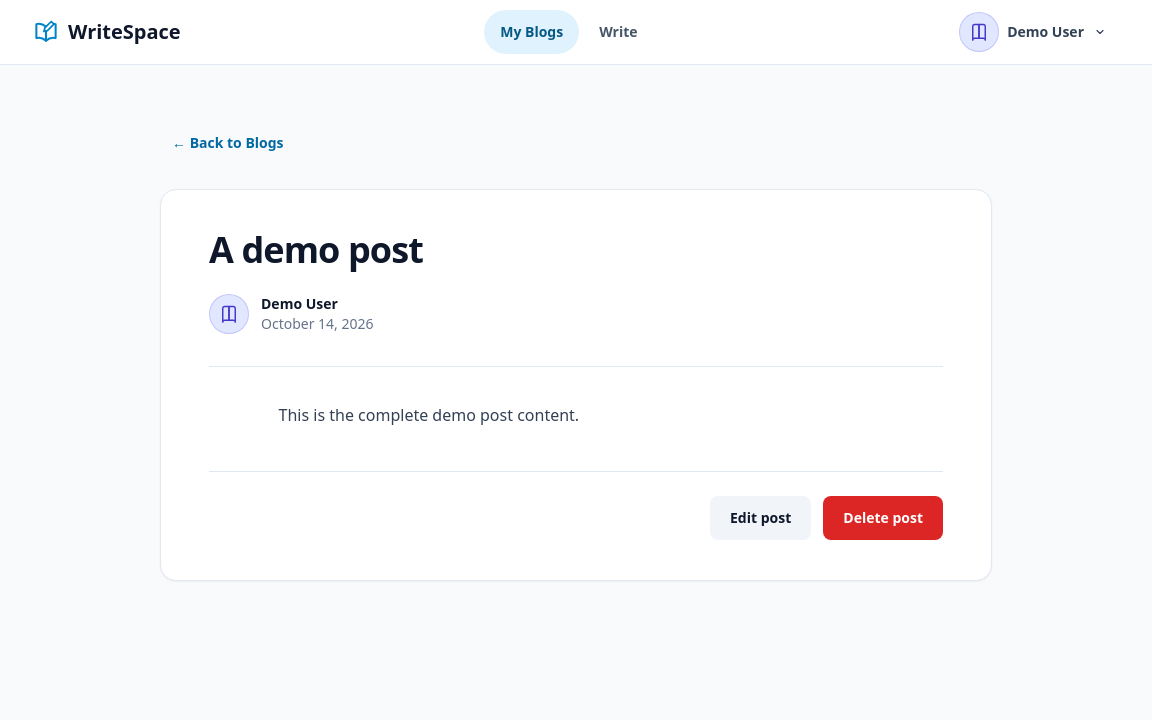
Scenario: post deletion flows › shows a visible error and keeps the reader open when deletion cannot be saved
Click the button with aria-label "Delete A demo post": (883,518) [823,496,943,540]
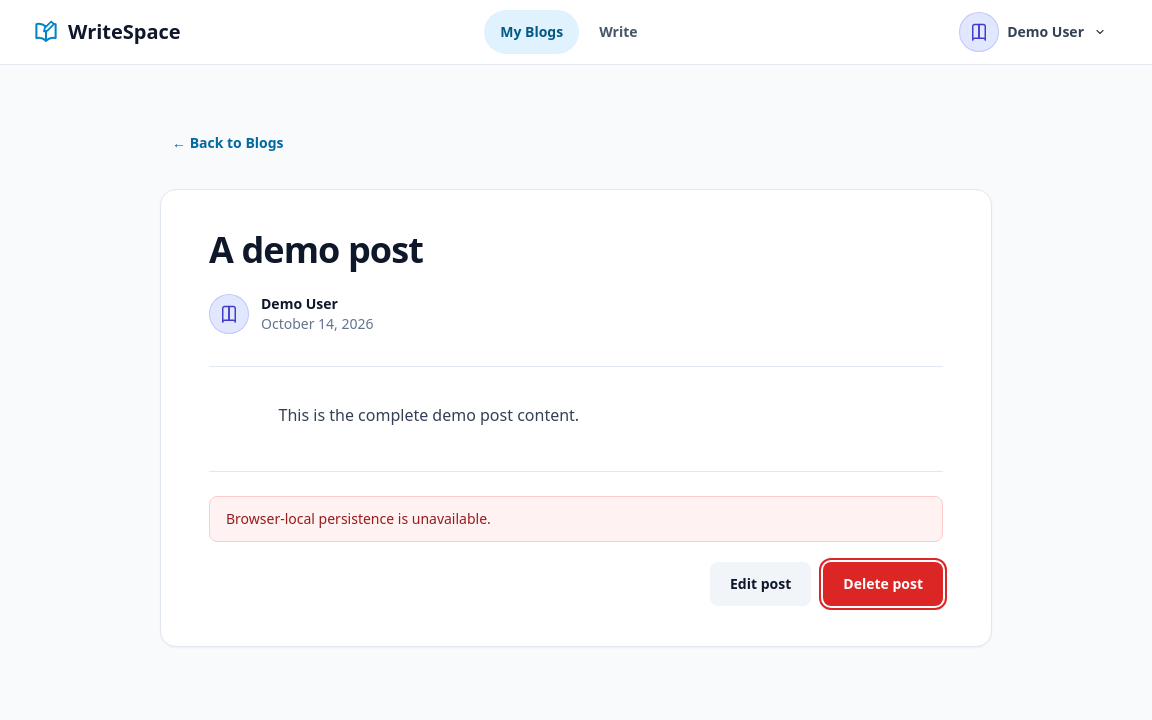
Expected: the heading "A demo post" is shown, [209,225,423,274]
Expected: the message reads "Browser-local persistence is unavailable.", [226,509,491,528]
